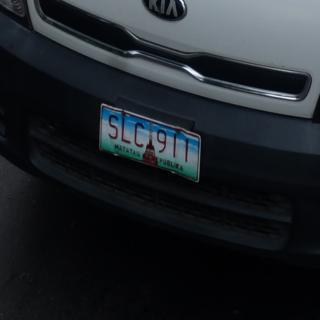license: (100, 104, 202, 184)
